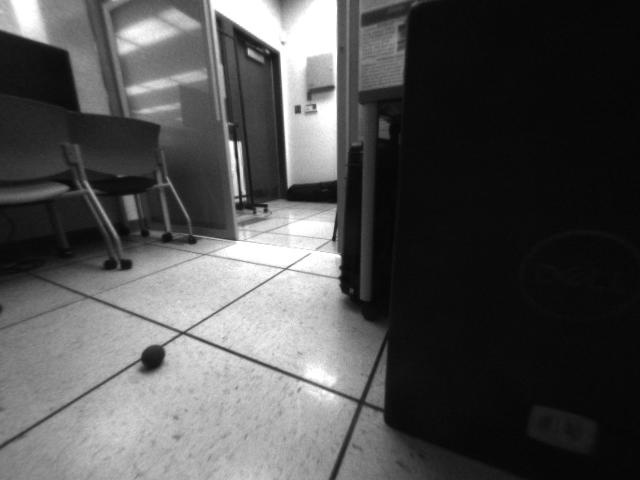dogtoy: (134, 339, 172, 376)
